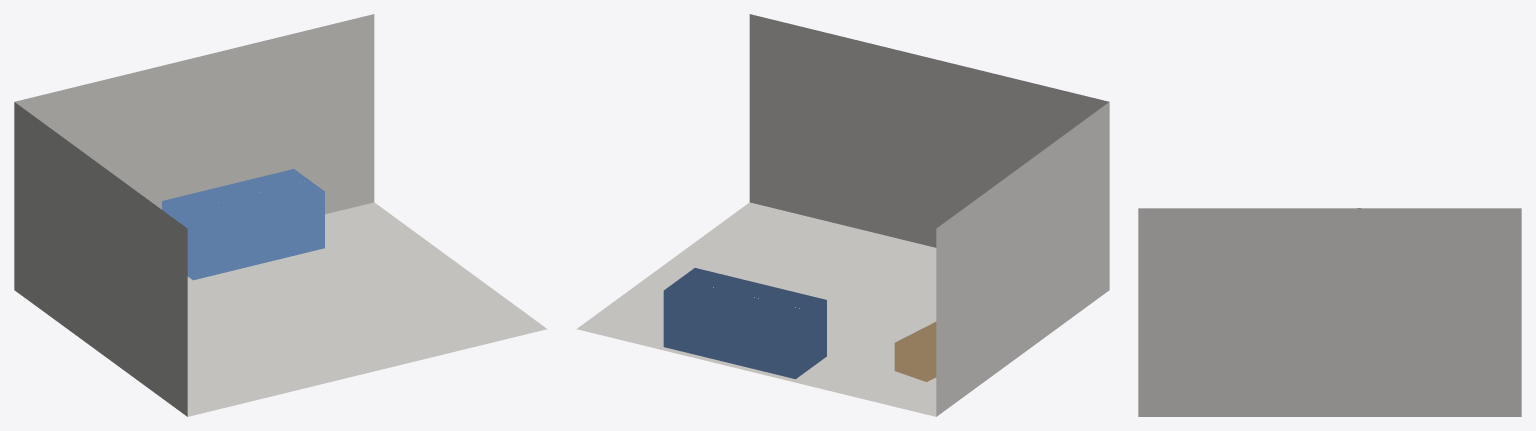
3 views of the same model, side by side, from view 1: azimuth 30°, elevation 25°; view 2: azimuth 150°, elevation 25°; view 3: azimuth 270°, elevation 25° (orthographic). The views are drawn at different scales.
Visible parts, largest first — view 1: Room, blue_sofa_mesh; view 2: Room, blue_sofa_mesh, coffee_table_mesh; view 3: Room.
Boxes of the visible parts, <box> form: Room: <box>14,14,547,416</box>; blue_sofa_mesh: <box>162,169,324,280</box>; Room: <box>576,14,1109,416</box>; blue_sofa_mesh: <box>663,268,826,379</box>; coffee_table_mesh: <box>894,322,936,381</box>; Room: <box>1138,208,1521,416</box>.
Bounding box in the file's own units: 6 × 3 × 5.
